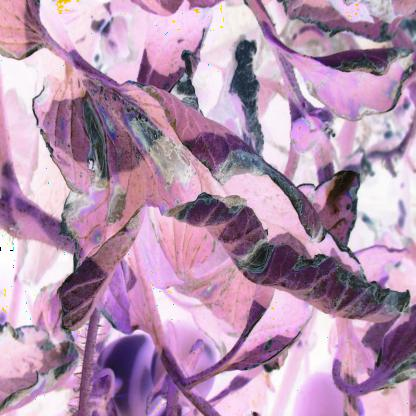tomato leaf bacterial spot: (31, 27, 410, 347)
